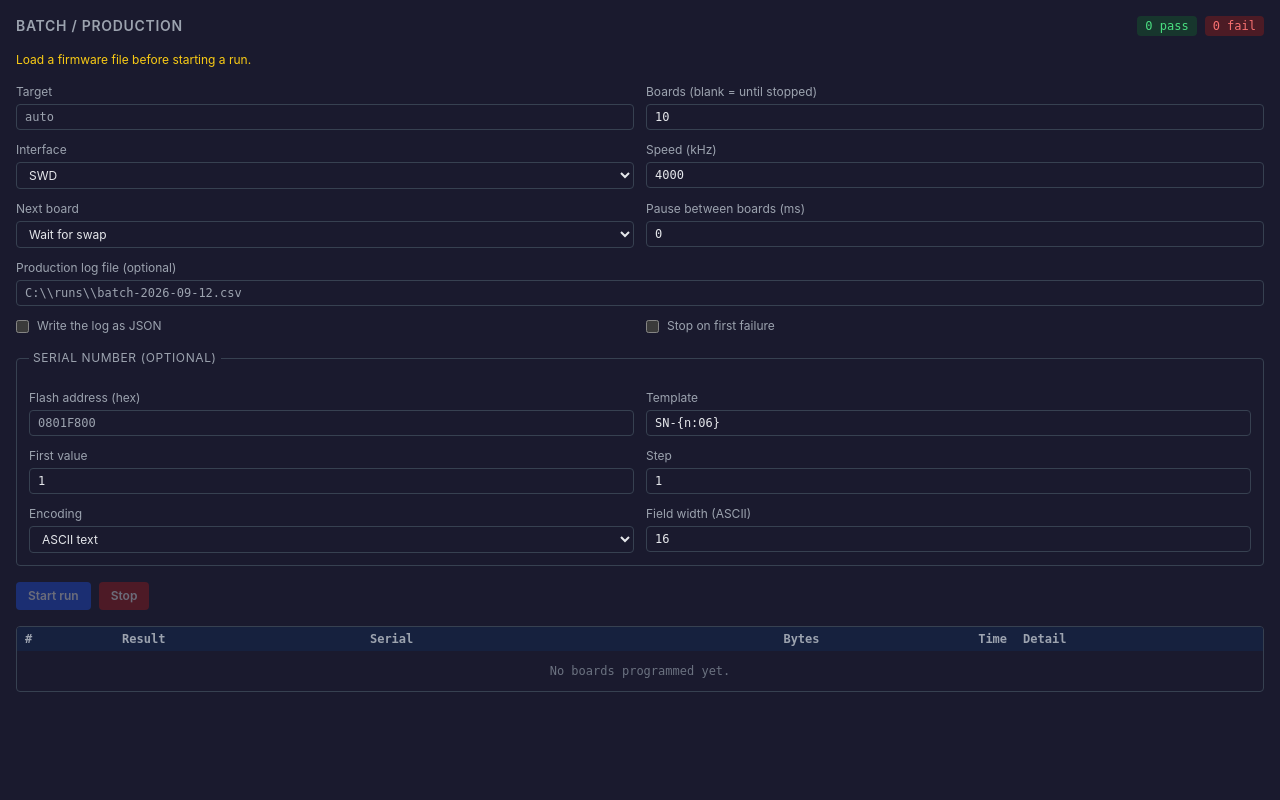
Test: BatchPanel › rejects a board count below one
Replace the text in the field named "Board count" with "0": (955, 117) [646,104,1264,130]
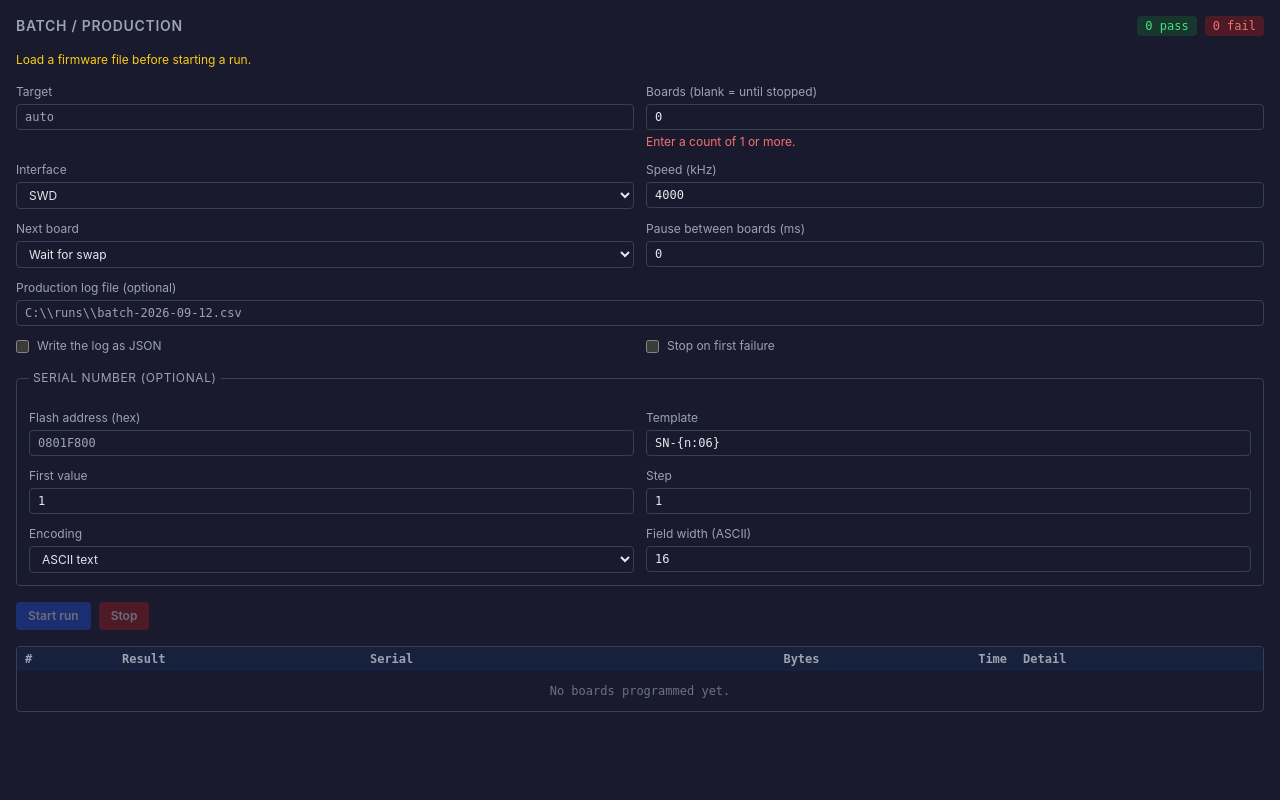
Result: the text "Enter a count of 1 or more." is shown at [646,134,796,149]
